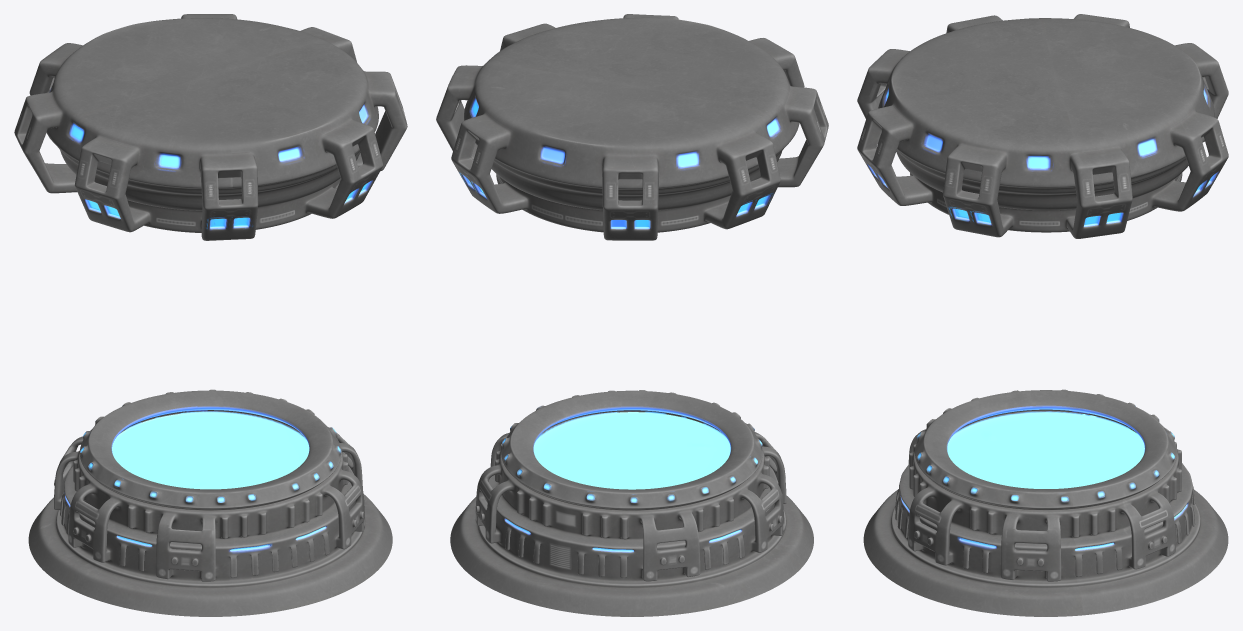
File: Sci-fi platform-fbx.fbx
The picture shows the model from 3 angles, left to right: view 1: azimuth 30°, elevation 25°; view 2: azimuth 150°, elevation 25°; view 3: azimuth 270°, elevation 25°; orthographic projection.
Parts seen in each view (by area): view 1: platform.001; view 2: platform.001; view 3: platform.001.
Boxes of the visible parts, x1,y1,x2,y2 form: platform.001: [14, 14, 407, 616]; platform.001: [436, 14, 828, 616]; platform.001: [857, 14, 1228, 616].
Size of the model in its own units: 1348 by 1769 by 1295.
1 material, 1 textured.
